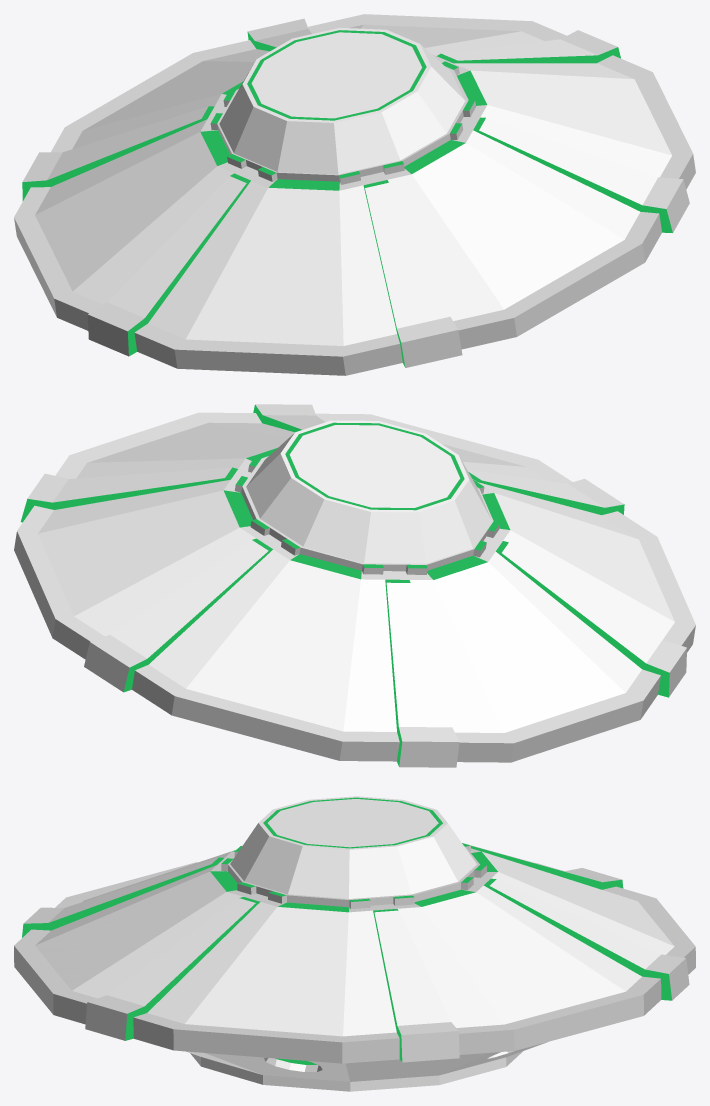
The model's file is ufo.glb.
3 views of the same model, one above another, from view 1: azimuth 30°, elevation 25°; view 2: azimuth 150°, elevation 25°; view 3: azimuth 270°, elevation 25° (orthographic).
Visible parts, largest first — view 1: ufo; view 2: ufo; view 3: ufo.
Part boxes in pixels (x1=…): ufo: x1=14, y1=14, x2=695, y2=375; ufo: x1=14, y1=404, x2=695, y2=767; ufo: x1=14, y1=796, x2=695, y2=1091.
Bounding box in the file's own units: 1.99 × 0.7923 × 2.
